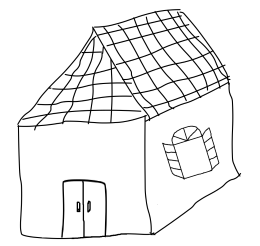door: (58, 174, 109, 242)
open_window: (162, 126, 220, 179)
roof: (16, 9, 230, 129)
wall: (15, 114, 156, 242)
